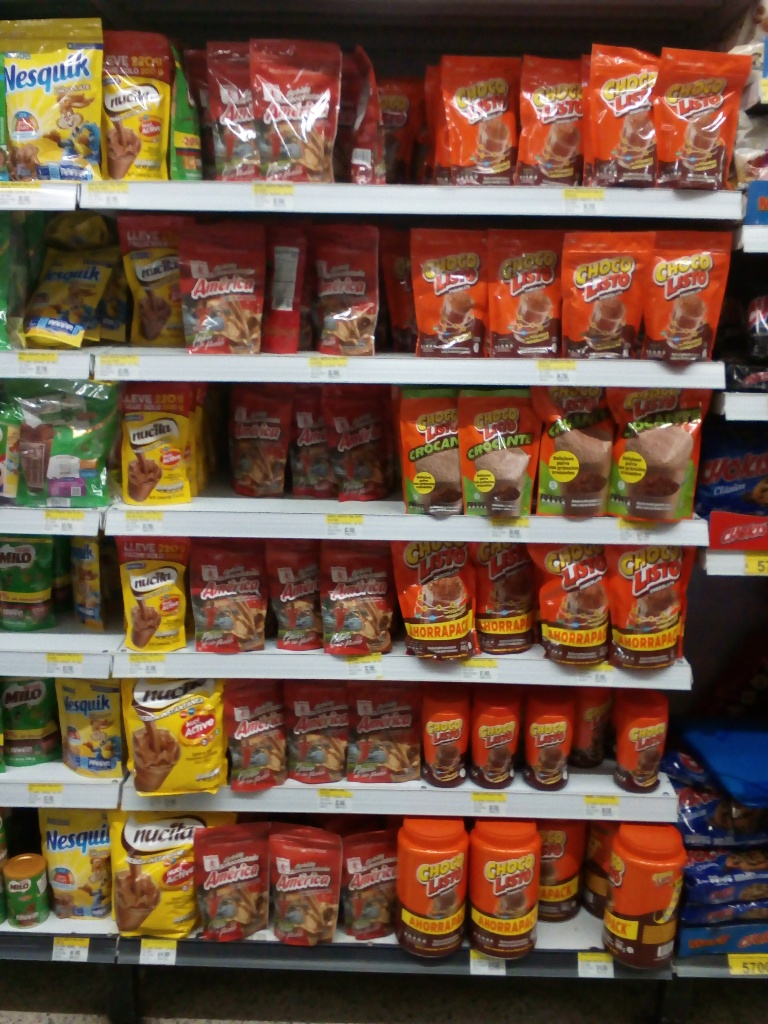COL0170102DYP50000: (537, 381, 614, 520)
COL0170103DYP44000: (388, 536, 480, 661)
COL0170103TRR00100: (536, 817, 586, 923)
COL0170203DYP50000: (11, 381, 120, 508)
COL0170203LAT20000: (3, 845, 54, 926)
COL0170303DYP20000: (51, 675, 125, 778)
